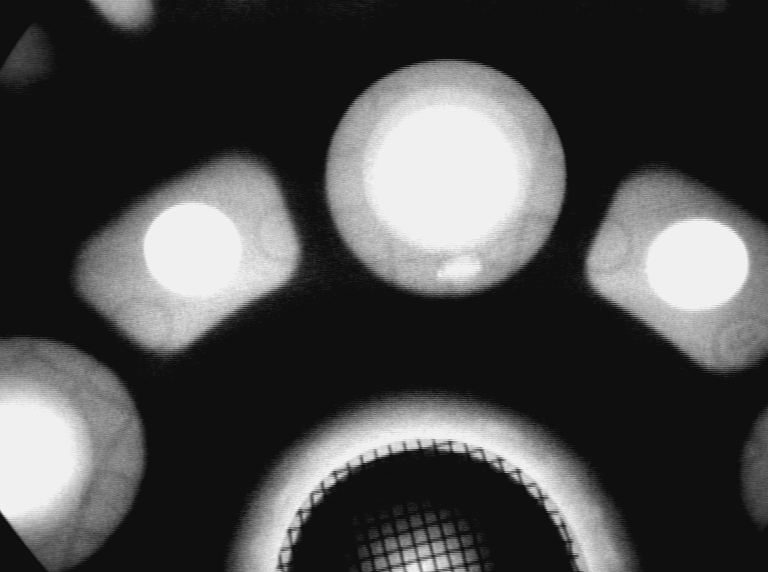defect: (431, 250, 488, 290)
